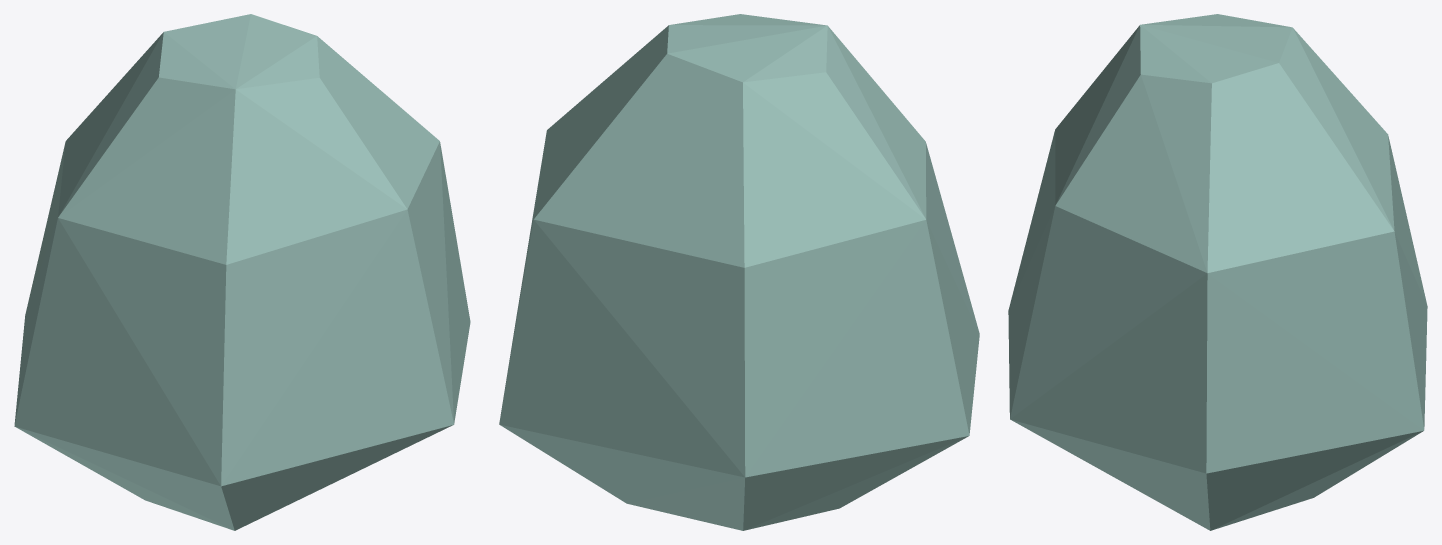
The model's file is SM_MR_Crystal_Loose_05.fbx.
3 views of the same model, side by side, from view 1: azimuth 30°, elevation 25°; view 2: azimuth 150°, elevation 25°; view 3: azimuth 270°, elevation 25° (orthographic). The views are drawn at different scales.
Visible parts, largest first — view 1: SM_MR_Crystal_Loose_05; view 2: SM_MR_Crystal_Loose_05; view 3: SM_MR_Crystal_Loose_05.
Part boxes in pixels (x1,y1,x2,y2): SM_MR_Crystal_Loose_05: [14, 14, 470, 530]; SM_MR_Crystal_Loose_05: [499, 14, 979, 530]; SM_MR_Crystal_Loose_05: [1008, 14, 1427, 530].
Bounding box in the file's own units: 0.2578 × 0.2112 × 0.2424.
